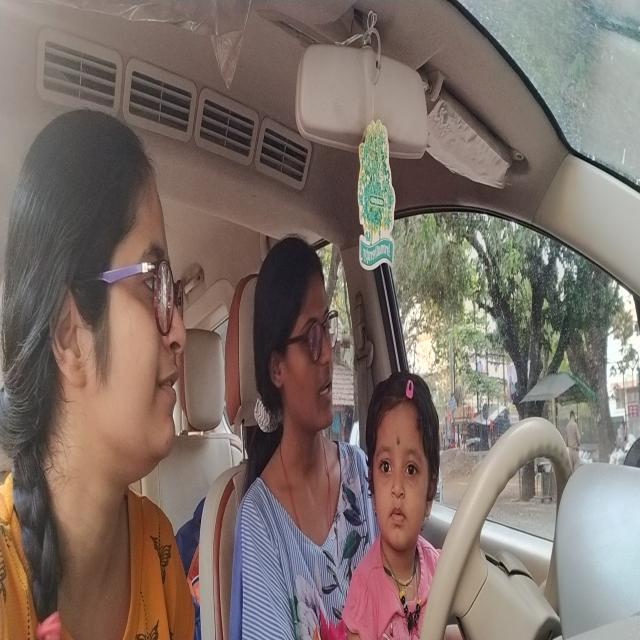child: (366, 381, 440, 550)
person: (44, 120, 184, 466), (260, 246, 339, 444)
